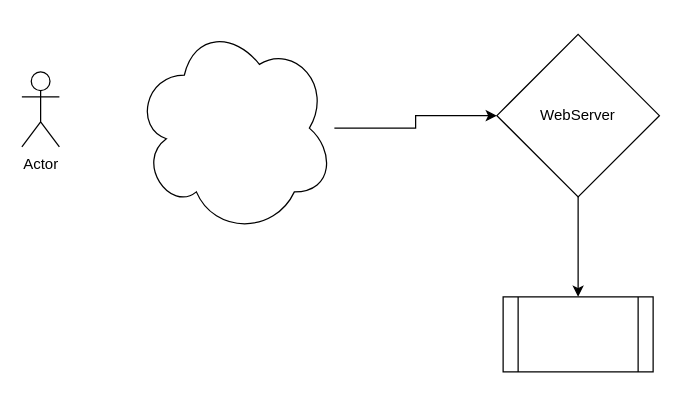
The diagram is 681 pixels wide and 394 high, and some of its shapes have lost their labels. Here are the shapes that lost their labels. From the top down, the centre of each, then its label:
At (x=233, y=127): "GET &var=val POST (MultiPartFormData) (files)".
At (x=577, y=334): "php".
